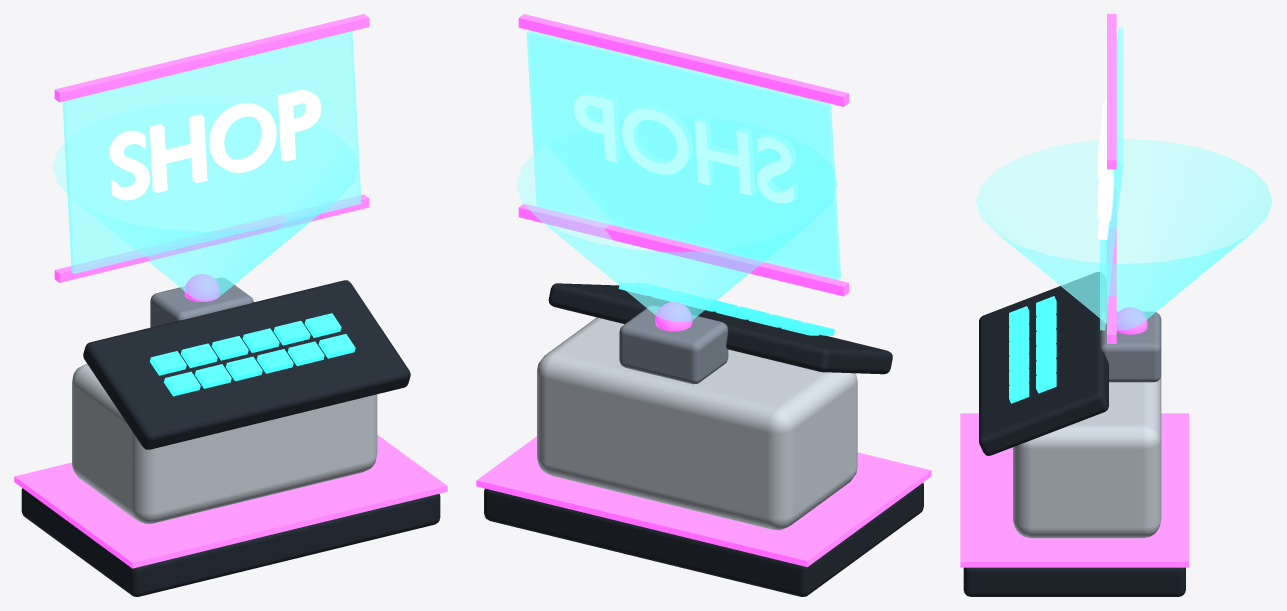
File: terminal.glb
3 views of the same model, side by side, from view 1: azimuth 30°, elevation 25°; view 2: azimuth 150°, elevation 25°; view 3: azimuth 270°, elevation 25° (orthographic). The views are drawn at different scales.
Visible parts, largest first — view 1: Terminal, Screen, Beam, ScreenFrame, Text; view 2: Terminal, Screen, Beam, ScreenFrame, Text; view 3: Terminal, Beam, ScreenFrame, Screen, Text.
Part boxes in pixels (box(x1,y1,x2,y2)): Terminal: box(14, 274, 447, 596); Screen: box(62, 31, 361, 273); Beam: box(52, 140, 358, 300); ScreenFrame: box(54, 14, 369, 282); Text: box(109, 90, 321, 200); Terminal: box(476, 282, 931, 596); Screen: box(526, 30, 841, 280); Beam: box(516, 144, 837, 321); ScreenFrame: box(518, 14, 848, 296); Text: box(573, 91, 797, 203); Terminal: box(960, 272, 1188, 596); Beam: box(976, 138, 1272, 330); ScreenFrame: box(1107, 14, 1116, 343); Screen: box(1100, 27, 1123, 330); Text: box(1097, 100, 1114, 239).
Size of the model in its own units: 2.85 by 3.92 by 2.53.
